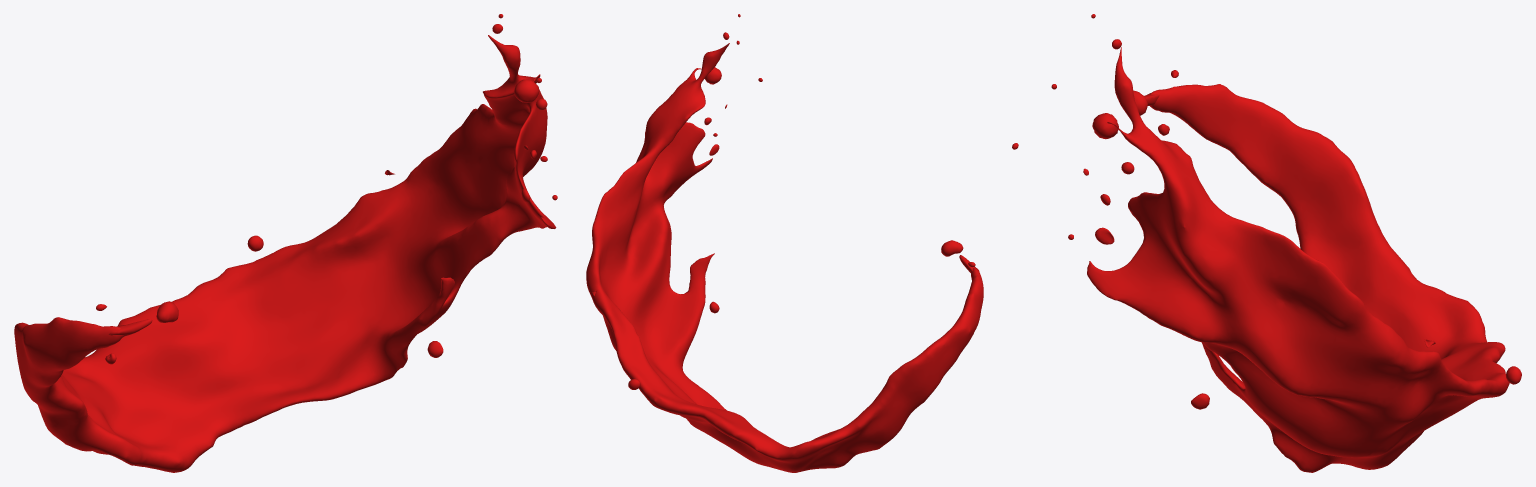
Rendered from splash.glb.
The picture shows the model from 3 angles, left to right: view 1: azimuth 30°, elevation 25°; view 2: azimuth 150°, elevation 25°; view 3: azimuth 270°, elevation 25°; orthographic projection. The views are drawn at different scales.
Parts seen in each view (by area): view 1: Liquid Domain_0; view 2: Liquid Domain_0; view 3: Liquid Domain_0.
Part boxes in pixels (x1,y1,x2,y2): Liquid Domain_0: (14,14,557,472); Liquid Domain_0: (586,14,983,472); Liquid Domain_0: (1012,14,1521,472).
Size of the model in its own units: 9.68 by 9.35 by 8.13.
